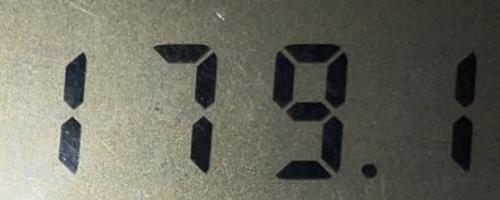.: (357, 161, 380, 179)
